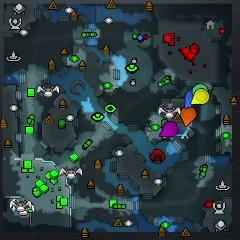p1: (185, 91, 196, 108)
p2: (192, 83, 207, 94)
p3: (160, 121, 178, 138)
p4: (191, 88, 209, 105)
p5: (180, 106, 197, 126)
